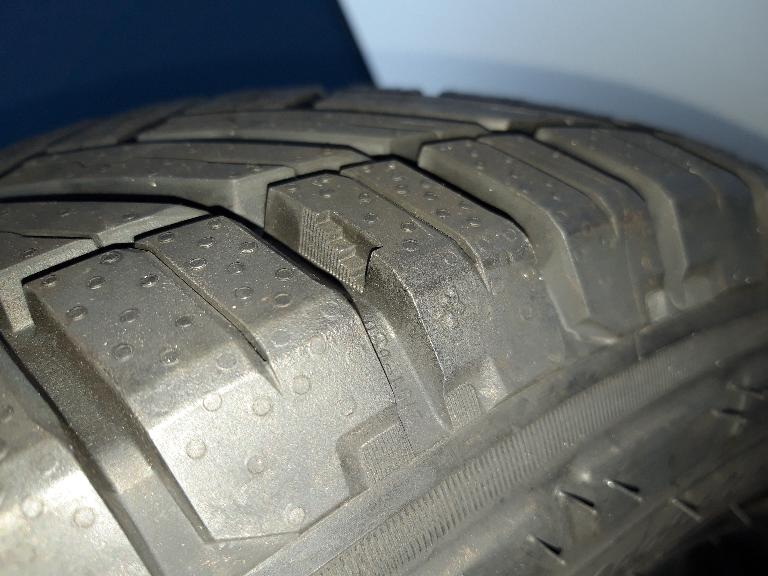temoin:100: (296, 204, 386, 298)
